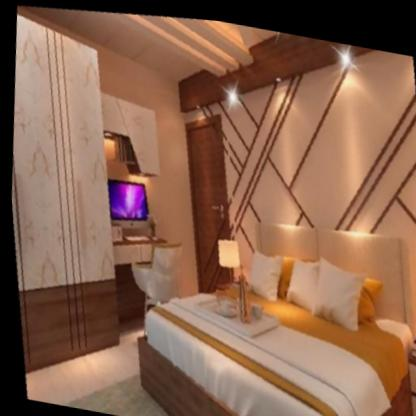Bed: (135, 192, 416, 416)
Closet: (1, 13, 155, 380)
